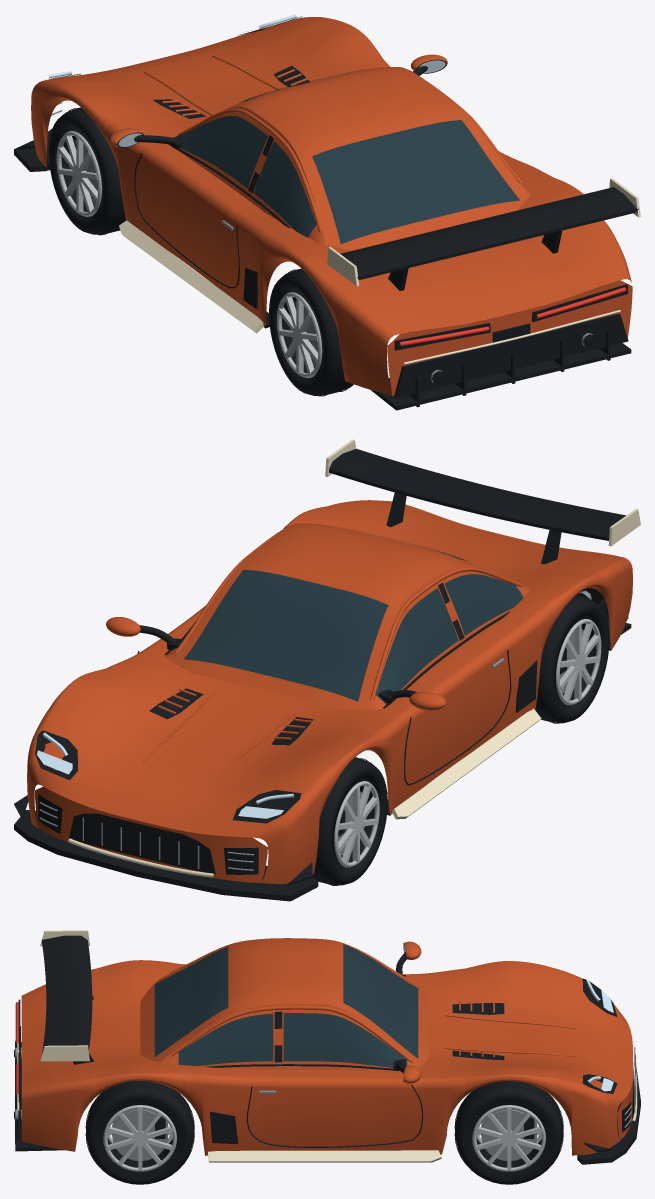
The picture shows the model from 3 angles, top to bottom: view 1: azimuth 30°, elevation 25°; view 2: azimuth 150°, elevation 25°; view 3: azimuth 270°, elevation 25°; orthographic projection. The views are drawn at different scales.
Visible parts, largest first — view 1: body_paint, body_carbon, body_glass, wheel_carbon (×2), wheel_rim (×2), body_accent, body_rearLights; view 2: body_paint, body_carbon, body_glass, wheel_carbon (×2), wheel_rim (×2), body_accent, body_lights, body_metal; view 3: body_paint, body_glass, wheel_carbon (×2), body_carbon, wheel_rim (×2), body_accent, wheel_metal (×2), body_lights.
Boxes of the visible parts, x1=… form: body_paint: x1=31, y1=17, x2=632, y2=395; body_carbon: x1=14, y1=16, x2=638, y2=410; body_glass: x1=180, y1=69, x2=519, y2=244; wheel_carbon (×2): x1=48, y1=107, x2=353, y2=396; wheel_rim (×2): x1=56, y1=131, x2=322, y2=377; body_accent: x1=119, y1=178, x2=640, y2=364; body_rearLights: x1=399, y1=287, x2=626, y2=346; body_paint: x1=27, y1=500, x2=632, y2=884; body_carbon: x1=14, y1=449, x2=631, y2=901; body_glass: x1=170, y1=527, x2=523, y2=704; wheel_carbon (×2): x1=312, y1=595, x2=609, y2=885; wheel_rim (×2): x1=334, y1=619, x2=601, y2=867; body_accent: x1=68, y1=439, x2=640, y2=877; body_lights: x1=37, y1=732, x2=293, y2=818; body_metal: x1=39, y1=590, x2=591, y2=870; body_paint: x1=21, y1=938, x2=632, y2=1155; body_glass: x1=154, y1=944, x2=418, y2=1067; wheel_carbon (×2): x1=85, y1=1081, x2=563, y2=1184; body_carbon: x1=14, y1=935, x2=640, y2=1164; wheel_rim (×2): x1=103, y1=1105, x2=545, y2=1171; body_accent: x1=17, y1=930, x2=637, y2=1162; wheel_metal (×2): x1=112, y1=1109, x2=537, y2=1160; body_lights: x1=586, y1=979, x2=613, y2=1091.
Size of the model in its own units: 1.23 by 0.6919 by 2.38.
